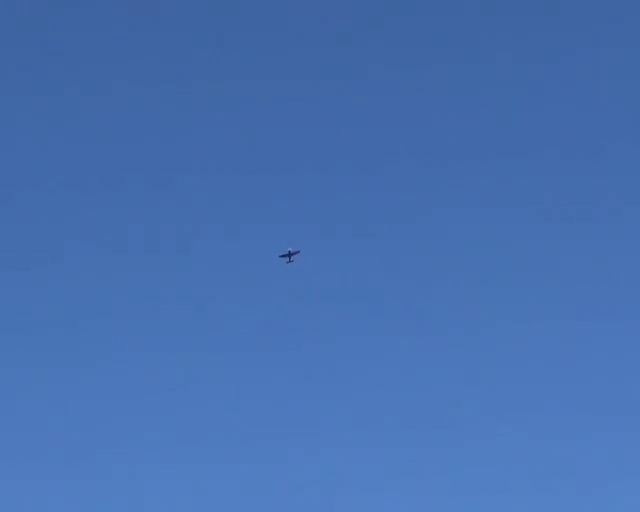AIRPLANE: (278, 248, 301, 263)
